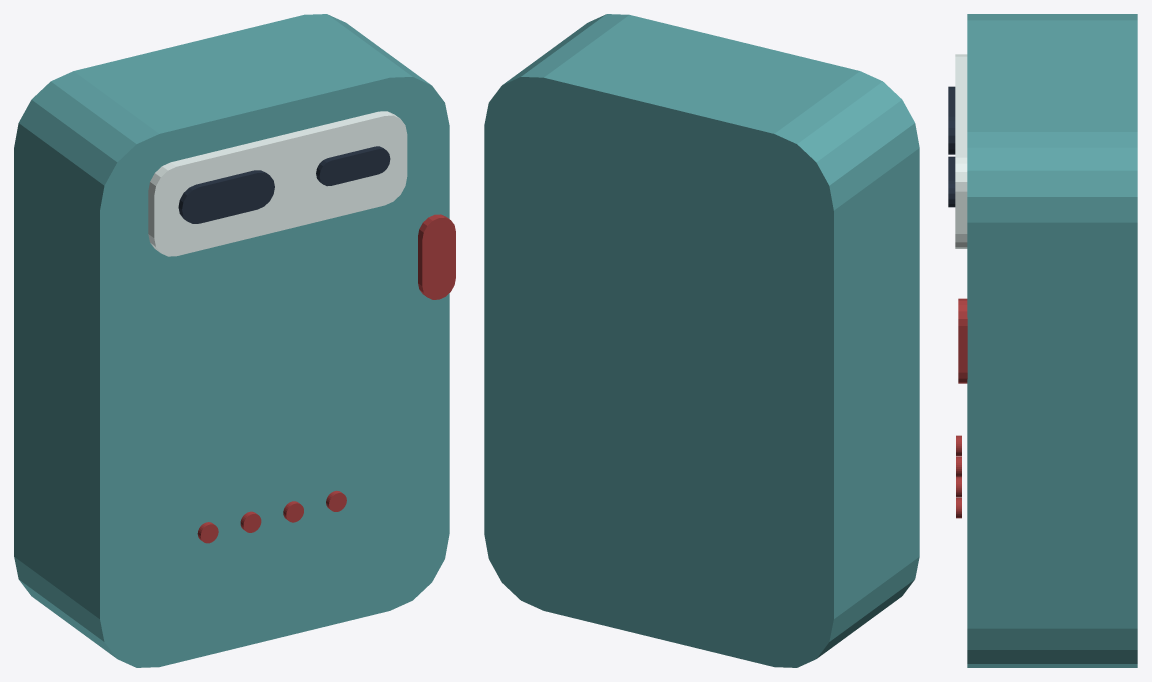
File: powerbank.glb
3 views of the same model, side by side, from view 1: azimuth 30°, elevation 25°; view 2: azimuth 150°, elevation 25°; view 3: azimuth 270°, elevation 25° (orthographic).
Parts seen in each view (by area): view 1: body, port panel, port usb a, power key, port usb c; view 2: body; view 3: body, port panel, power key, port usb a, port usb c.
Boxes of the visible parts, <box> form: body: <box>14,14,449,667</box>; port panel: <box>148,111,407,256</box>; port usb a: <box>178,170,274,223</box>; power key: <box>418,214,455,299</box>; port usb c: <box>316,146,390,186</box>; body: <box>484,14,919,667</box>; body: <box>967,14,1137,667</box>; port panel: <box>955,54,967,248</box>; power key: <box>958,298,967,383</box>; port usb a: <box>948,86,955,154</box>; port usb c: <box>948,156,955,207</box>.
Size of the model in its own units: 0.945 by 1.37 by 0.4445.
